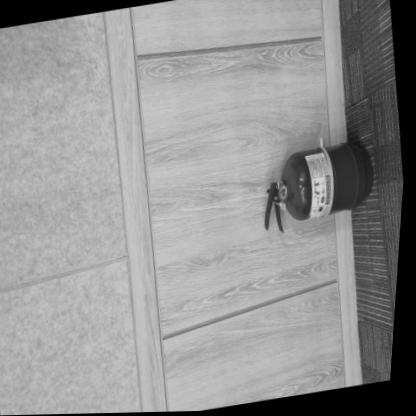FE: (258, 140, 384, 234)
